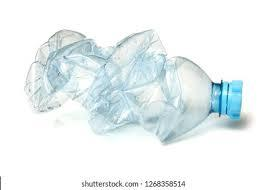plastic: (22, 28, 244, 143)
